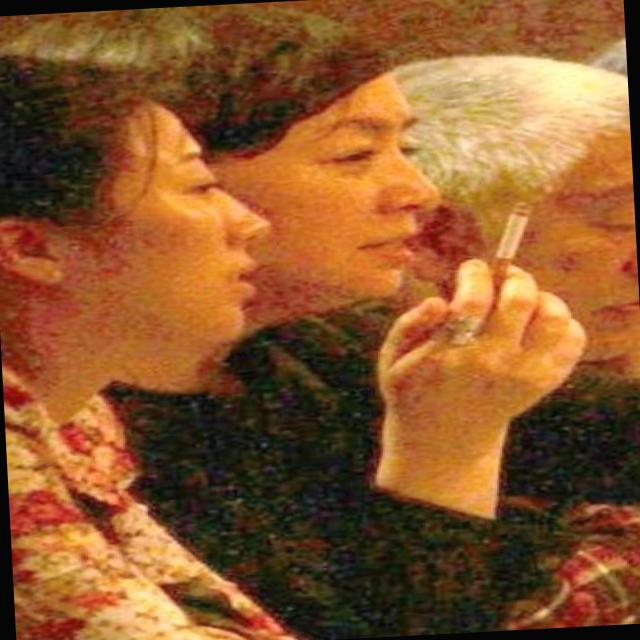smoke: (477, 206, 532, 284)
